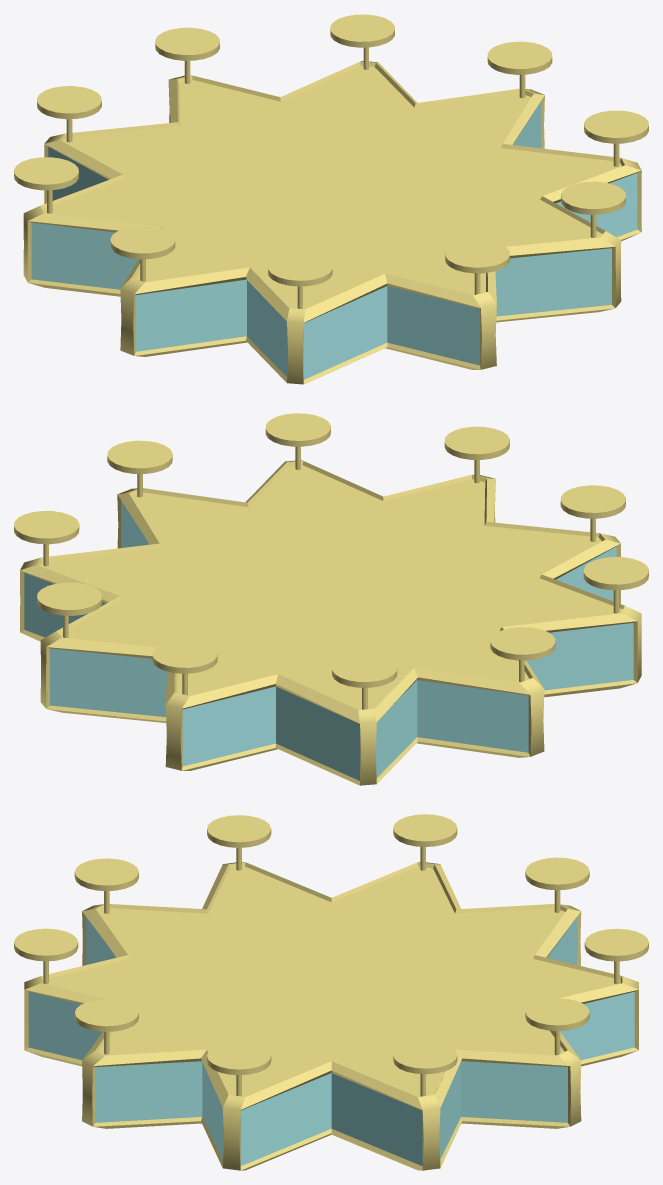
The model's file is ceiling_light_type_1.fbx.
The picture shows the model from 3 angles, top to bottom: view 1: azimuth 30°, elevation 25°; view 2: azimuth 150°, elevation 25°; view 3: azimuth 270°, elevation 25°; orthographic projection. The views are drawn at different scales.
Visible parts, largest first — view 1: pCylinder5, polySurface16, pCylinder17; view 2: pCylinder5, polySurface16, pCylinder17; view 3: pCylinder5, polySurface16, pCylinder17.
Part boxes in pixels (box(x1,y1,x2,y2)): pCylinder5: box(23, 61, 641, 384); polySurface16: box(14, 14, 648, 286); pCylinder17: box(47, 47, 619, 308); pCylinder5: box(20, 460, 641, 785); polySurface16: box(14, 413, 648, 687); pCylinder17: box(43, 446, 619, 709); pCylinder5: box(24, 862, 638, 1170); polySurface16: box(14, 814, 648, 1075); pCylinder17: box(43, 846, 619, 1096).
Bounding box in the file's own units: 162 × 34.87 × 171.
